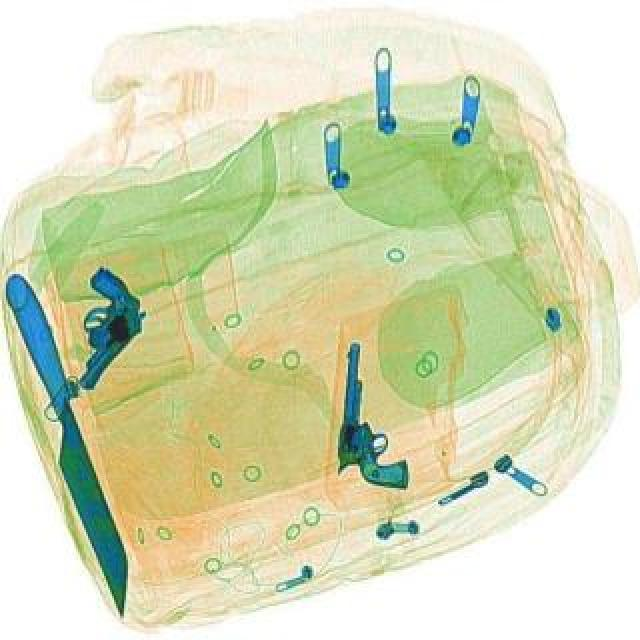gun: (32, 262, 162, 390), (328, 338, 420, 486)
knife: (0, 268, 148, 620)
